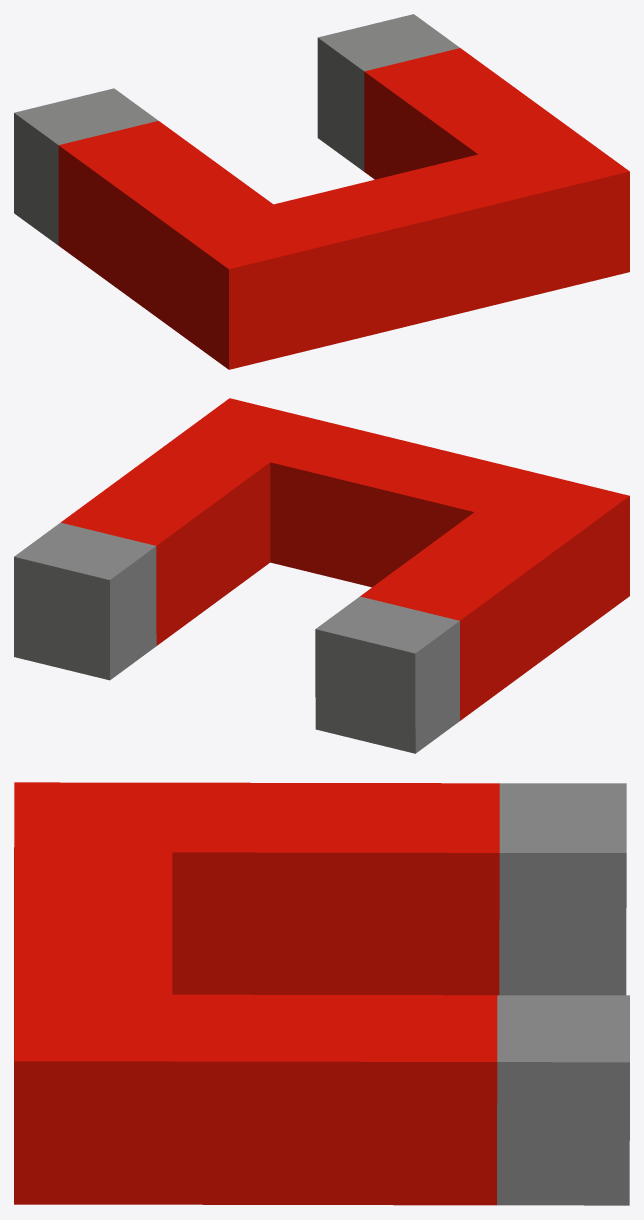
The model's file is magnet.fbx.
3 renders of one model, top to bottom at view 1: azimuth 30°, elevation 25°; view 2: azimuth 150°, elevation 25°; view 3: azimuth 270°, elevation 25°, orthographic. The views are drawn at different scales.
Parts seen in each view (by area): view 1: Cube; view 2: Cube; view 3: Cube.
Boxes of the visible parts, x1,y1,x2,y2 form: Cube: (14,14,629,369); Cube: (14,398,629,753); Cube: (14,782,629,1205).
Size of the model in its own units: 410 by 98.9 by 383.
